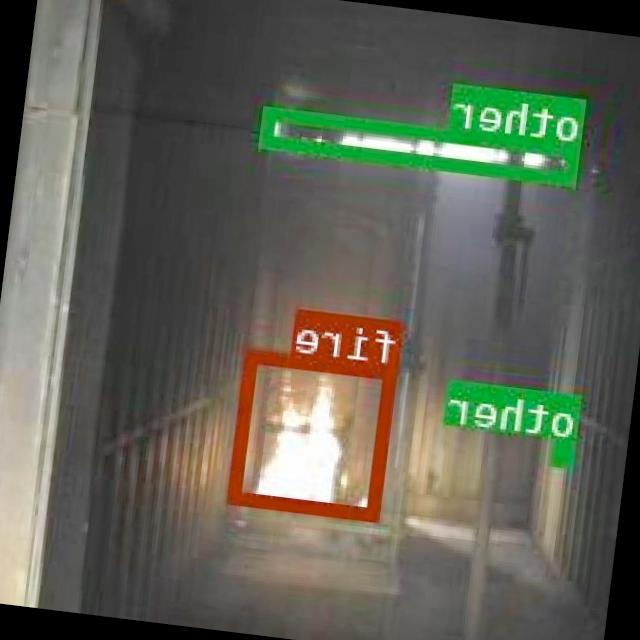fire: (230, 348, 400, 519)
